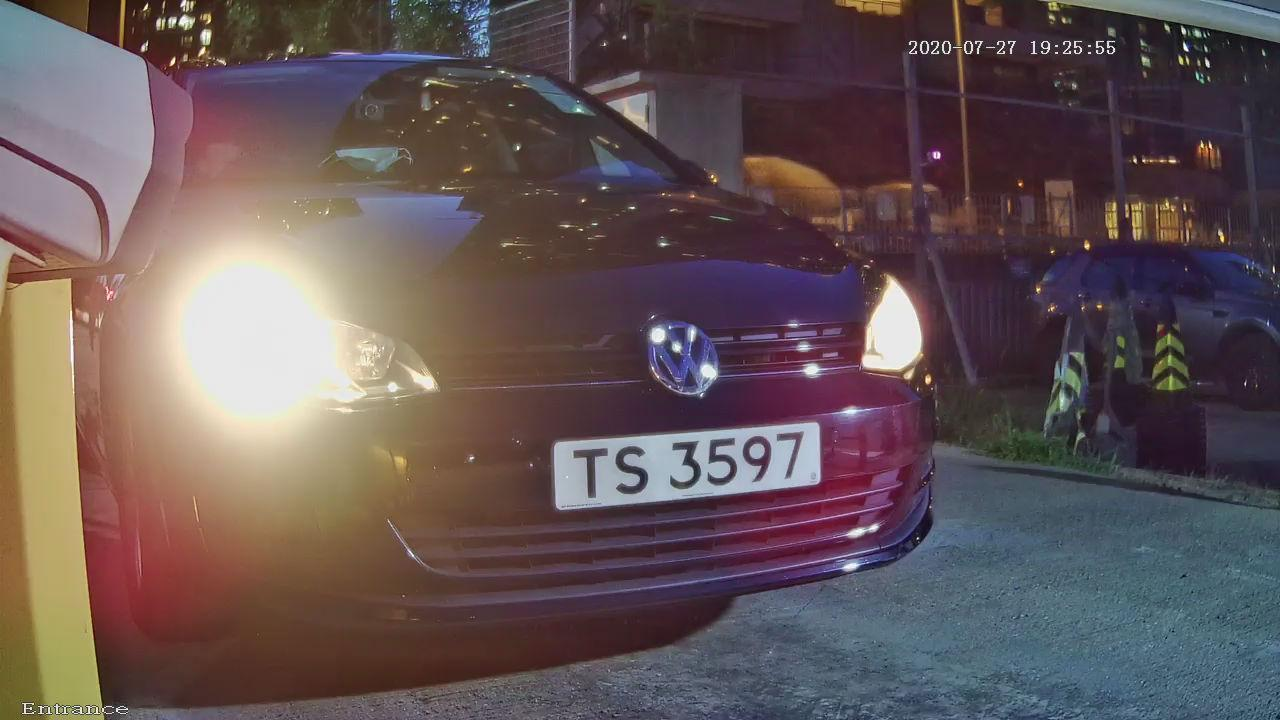privatecar: (98, 26, 961, 659)
